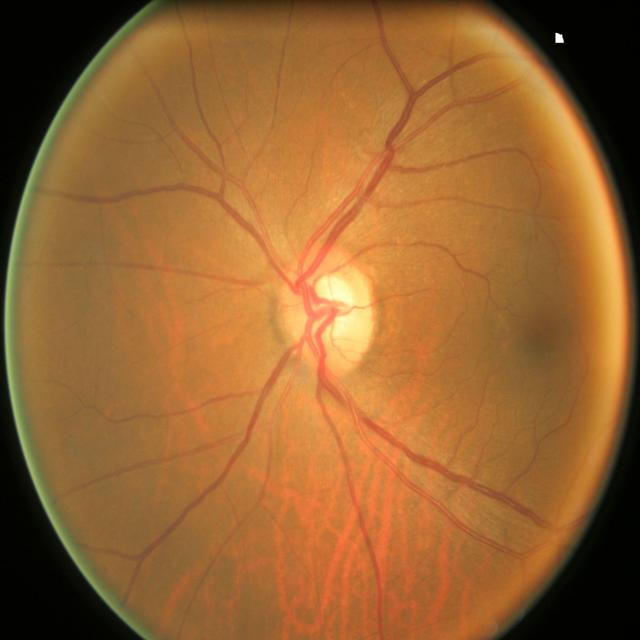OC: (306, 276, 354, 340)
OD: (279, 248, 379, 370)
